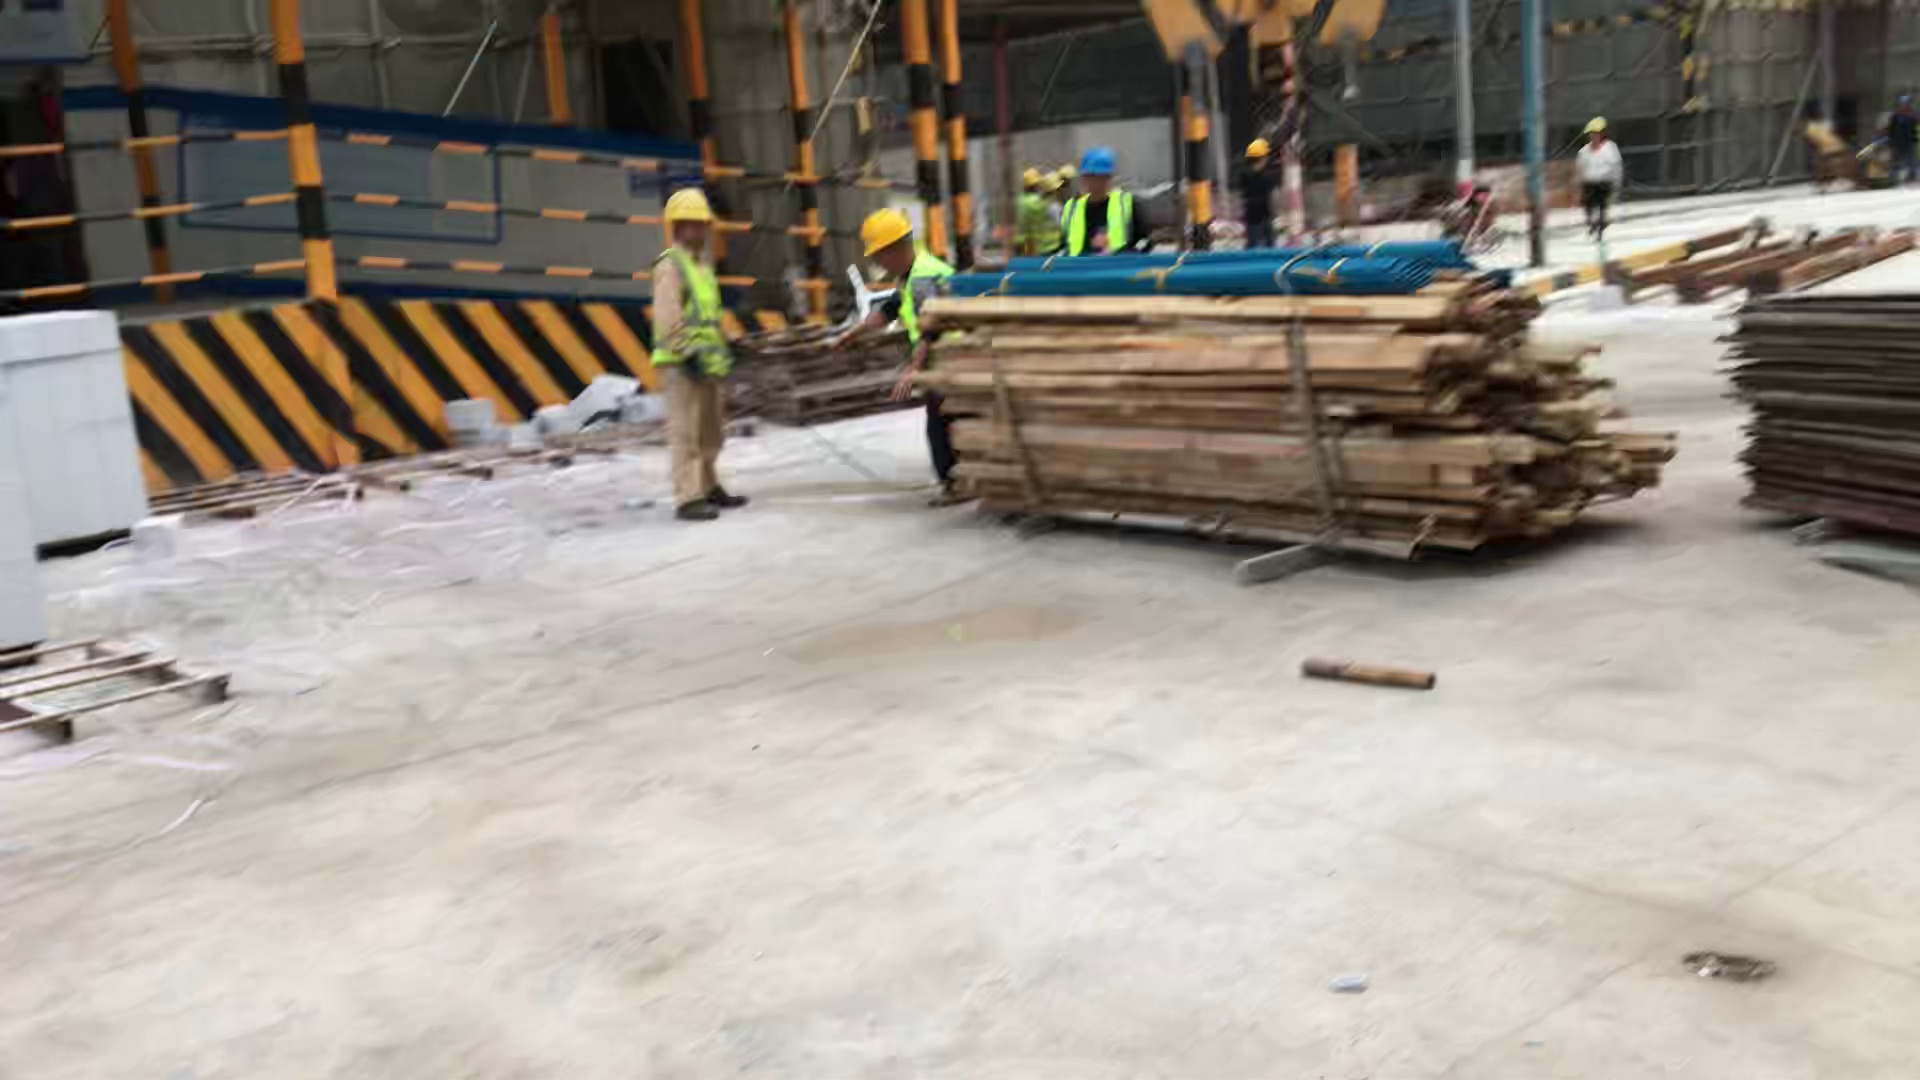board: (1746, 285, 1920, 553)
brick: (1, 324, 167, 642)
ebox: (1332, 141, 1361, 214)
helmet: (861, 209, 911, 255), (664, 185, 716, 223), (1077, 149, 1118, 176), (1244, 139, 1268, 158), (1584, 117, 1607, 134), (1040, 175, 1062, 192)
hook: (1138, 1, 1390, 129)
person: (855, 219, 970, 506), (659, 185, 755, 523), (1063, 149, 1142, 264), (1573, 115, 1622, 242), (1035, 172, 1066, 265), (1013, 170, 1035, 256)
vest: (658, 245, 722, 367), (891, 257, 961, 334), (1070, 191, 1135, 260), (1033, 203, 1061, 253), (1012, 196, 1033, 251)
wood: (935, 306, 1631, 557)
